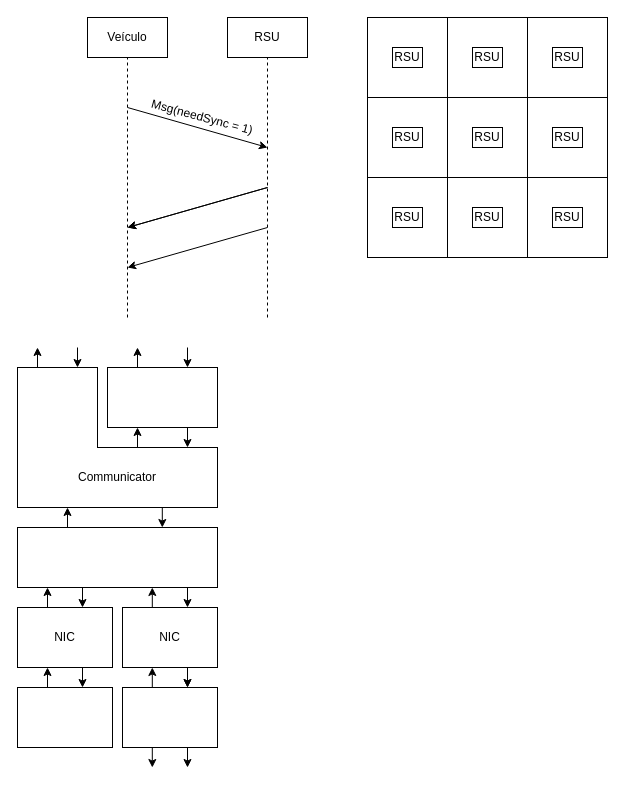
Image size: 625x793. Some labels were removed from this diagram. The shapes that lost their labels are listed below. From the top down, each one's centre as x and y in pixels, then its label:
At (x=162, y=397): "SmartData".
At (x=117, y=557): "Protocol".
At (x=64, y=717): "SharedMem Engine".
At (x=170, y=717): "SocketEngine".
